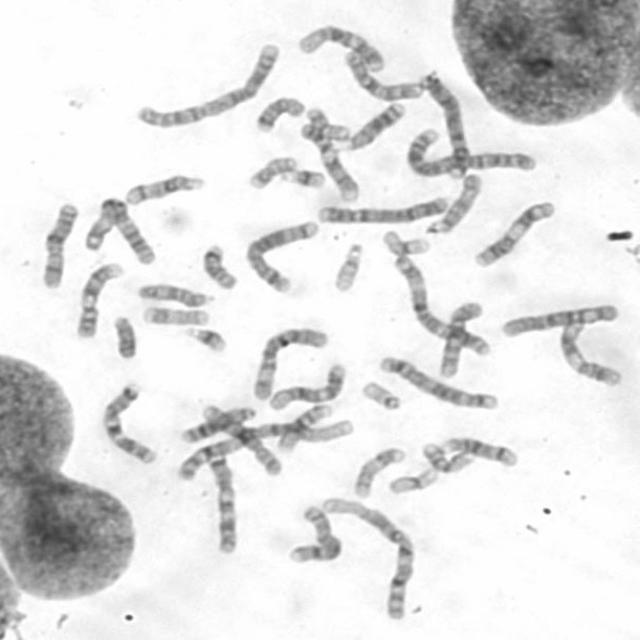A1: (318, 496, 417, 624), (175, 418, 356, 484)
A2: (133, 40, 283, 132), (406, 127, 540, 175)
A3: (391, 252, 495, 357), (83, 196, 156, 267)
B4: (415, 71, 473, 181), (316, 194, 450, 224)
B5: (378, 354, 499, 411), (243, 219, 321, 294)
C10: (342, 49, 426, 102), (436, 300, 484, 380)
C11: (472, 200, 558, 269), (560, 318, 622, 387)
C12: (294, 22, 386, 74), (267, 360, 348, 412)
C6: (251, 324, 328, 400), (500, 302, 619, 341)
C7: (100, 384, 162, 466), (205, 454, 240, 554)
C8: (199, 402, 284, 476), (286, 504, 344, 563)
C9: (300, 121, 362, 204), (72, 259, 126, 339)
D13: (328, 102, 408, 155), (180, 404, 259, 445)
D14: (123, 173, 205, 208), (441, 435, 518, 469)
D15: (423, 169, 483, 236), (136, 281, 218, 309)
E16: (272, 402, 332, 454), (421, 441, 478, 474)
E17: (352, 446, 408, 499), (144, 306, 212, 328)
E18: (253, 93, 306, 137), (201, 244, 239, 289)
F19: (386, 466, 440, 494), (379, 230, 431, 257)
F20: (245, 153, 298, 192), (303, 106, 351, 142)
G21: (182, 326, 230, 354), (278, 164, 326, 191)
G22: (331, 240, 362, 294), (357, 379, 402, 413)
X: (38, 200, 80, 292)
Y: (108, 315, 140, 363)
